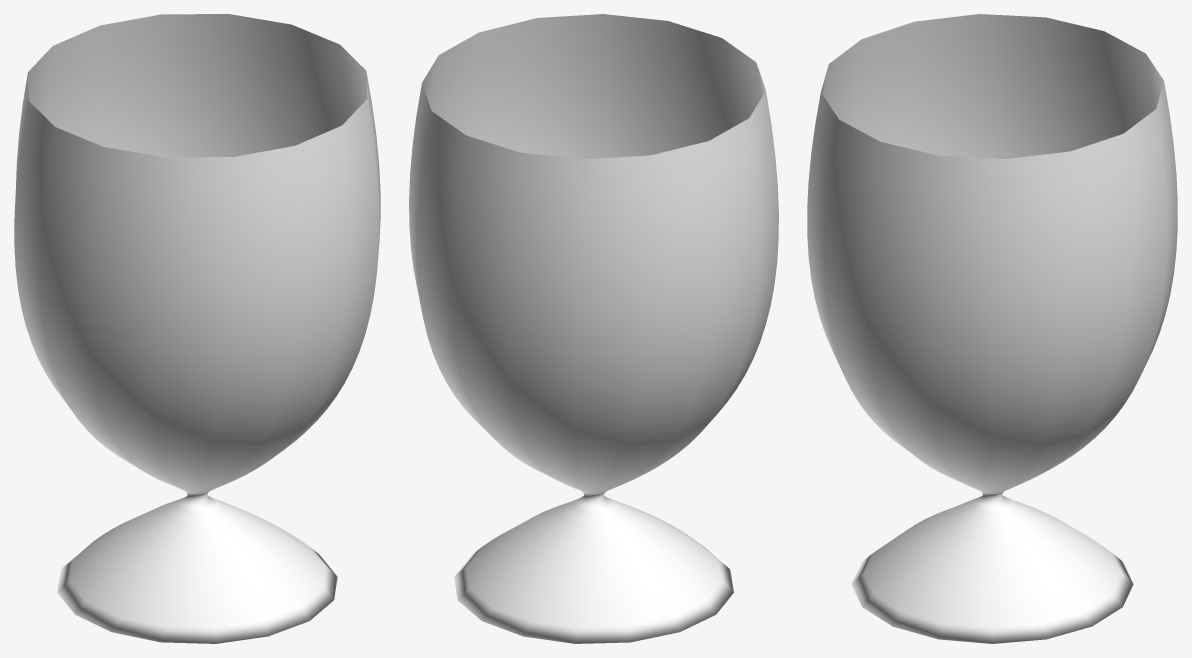
File: cup.glb
The picture shows the model from 3 angles, left to right: view 1: azimuth 30°, elevation 25°; view 2: azimuth 150°, elevation 25°; view 3: azimuth 270°, elevation 25°; orthographic projection.
Parts seen in each view (by area): view 1: NurbsPath; view 2: NurbsPath; view 3: NurbsPath.
Part boxes in pixels (x1,y1,x2,y2): NurbsPath: [14, 14, 380, 643]; NurbsPath: [409, 14, 778, 643]; NurbsPath: [807, 14, 1177, 643].
Bounding box in the file's own units: 1.72 × 2.55 × 1.72.
Materials: 1 (1 with a texture image).
